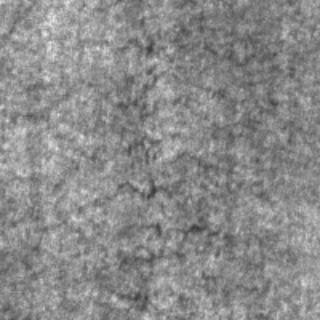crazing: (18, 61, 244, 229), (104, 220, 268, 300)
